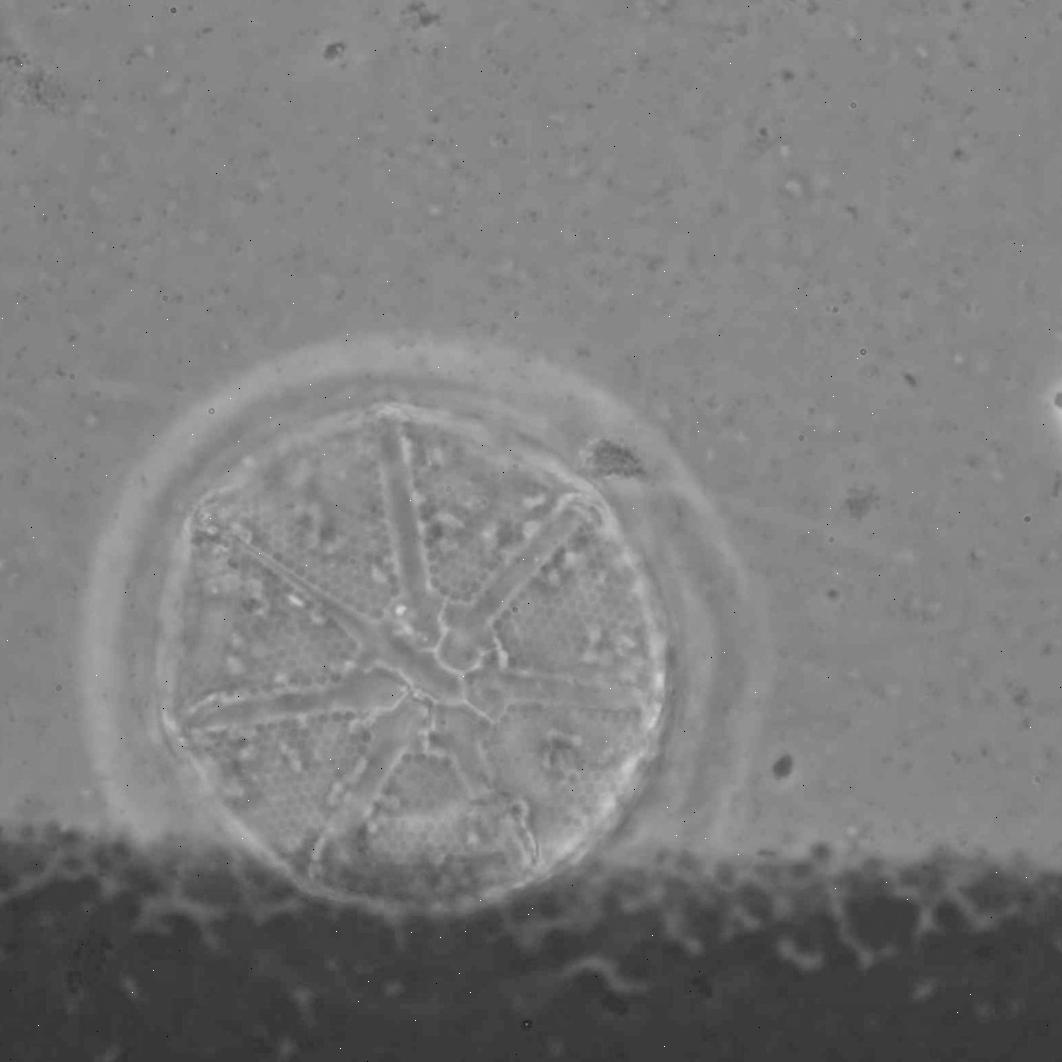asteromphalus_hyalinus: (158, 407, 655, 909)
